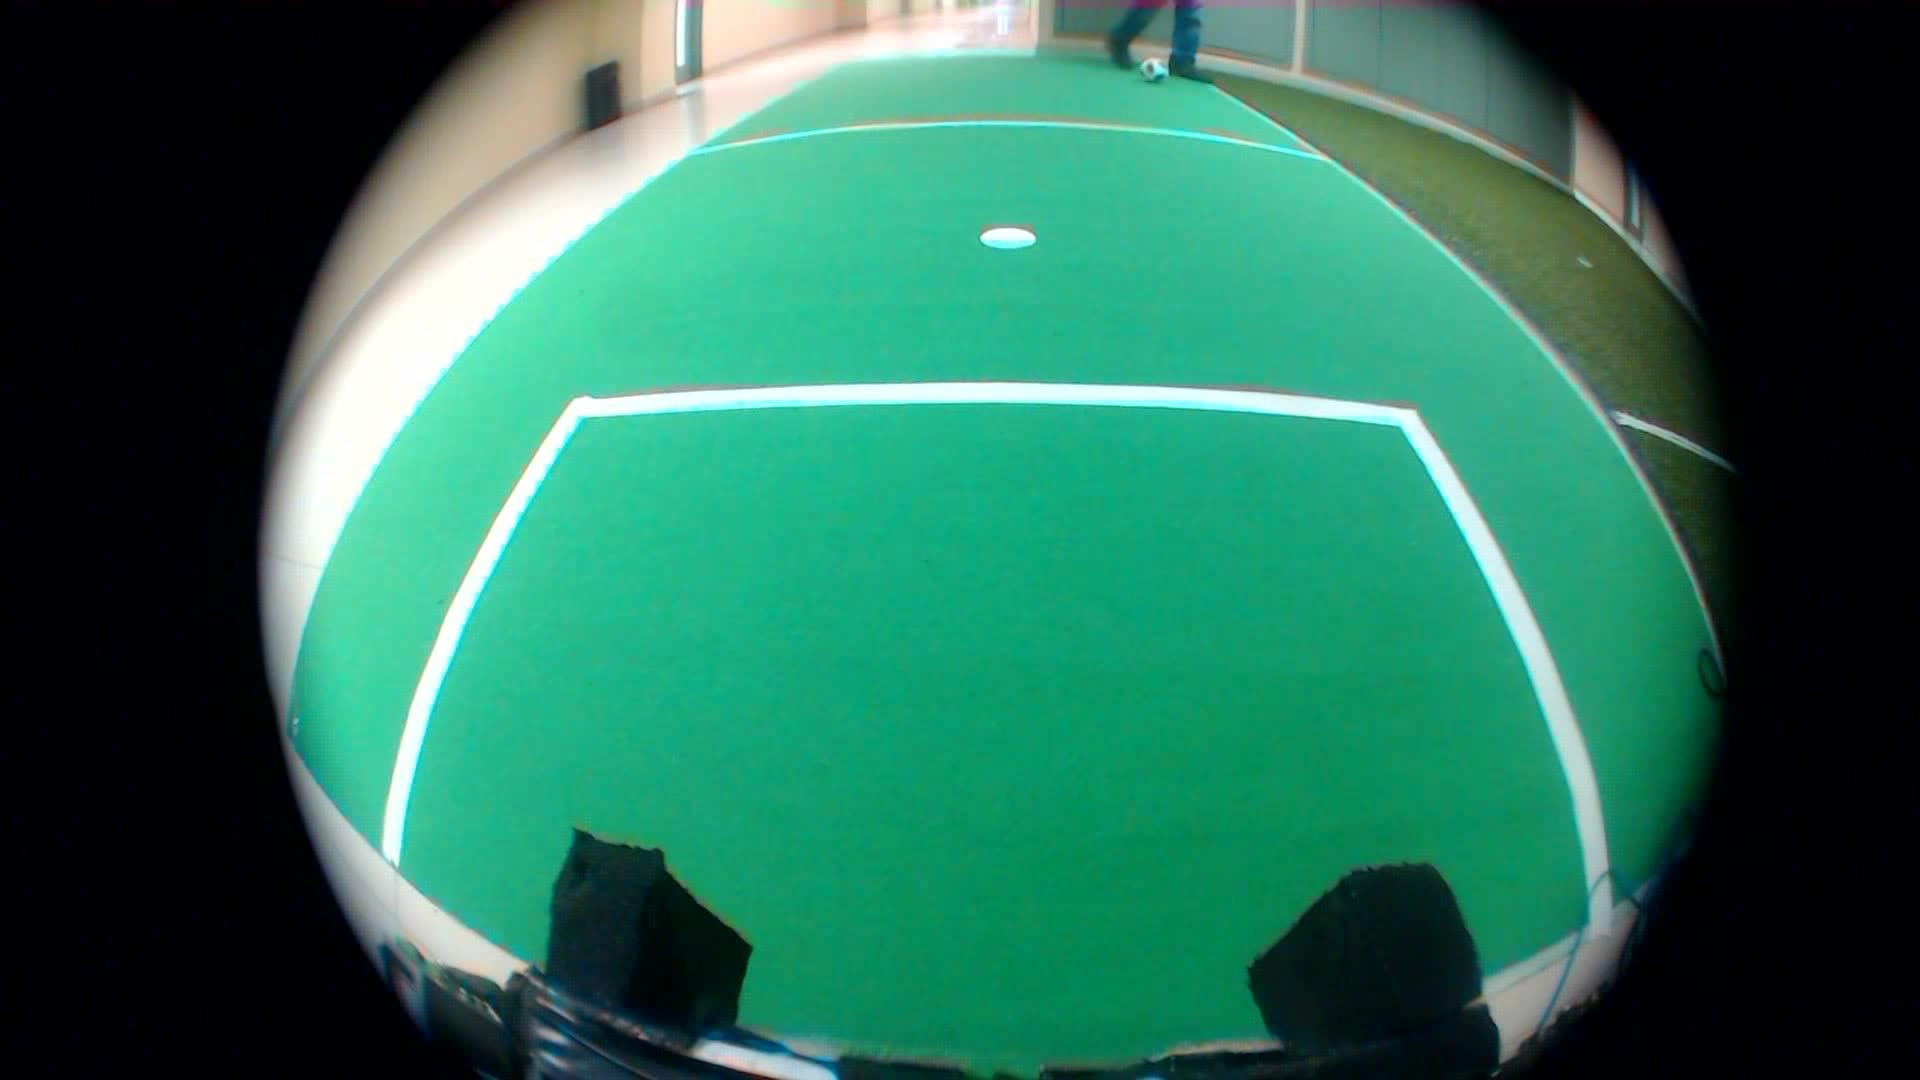ball: (1143, 53, 1176, 90)
